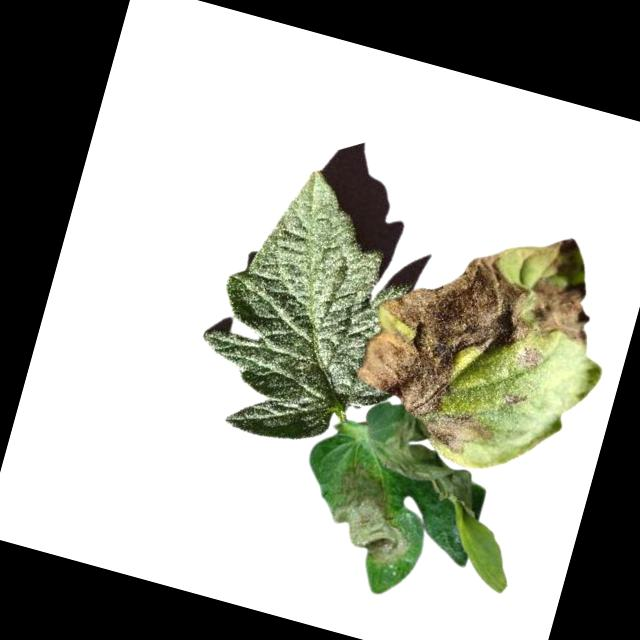Late_blight: (338, 223, 541, 463), (365, 407, 497, 519), (318, 459, 429, 573), (520, 269, 603, 351), (513, 339, 545, 374), (503, 384, 527, 410)
healthy: (183, 153, 439, 464)
